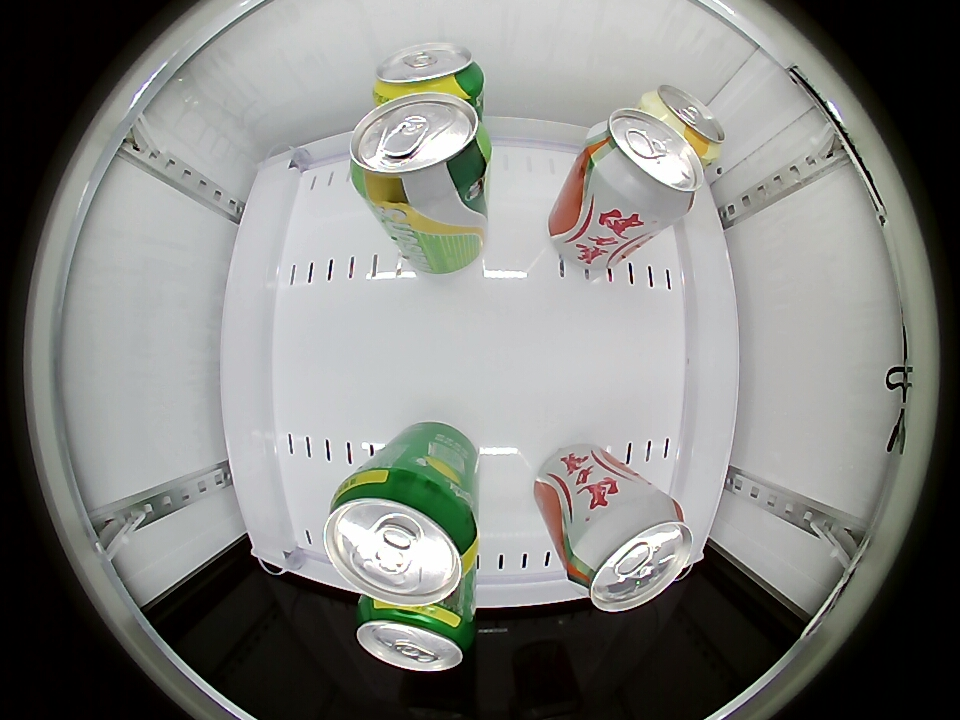jianlibao: (568, 489, 694, 613), (587, 106, 703, 219)
mangguoxiaolao: (644, 86, 724, 159)
quchenshixiangcao: (349, 92, 489, 203)
xuebi2: (323, 469, 478, 605), (355, 598, 475, 672), (372, 42, 484, 103)
